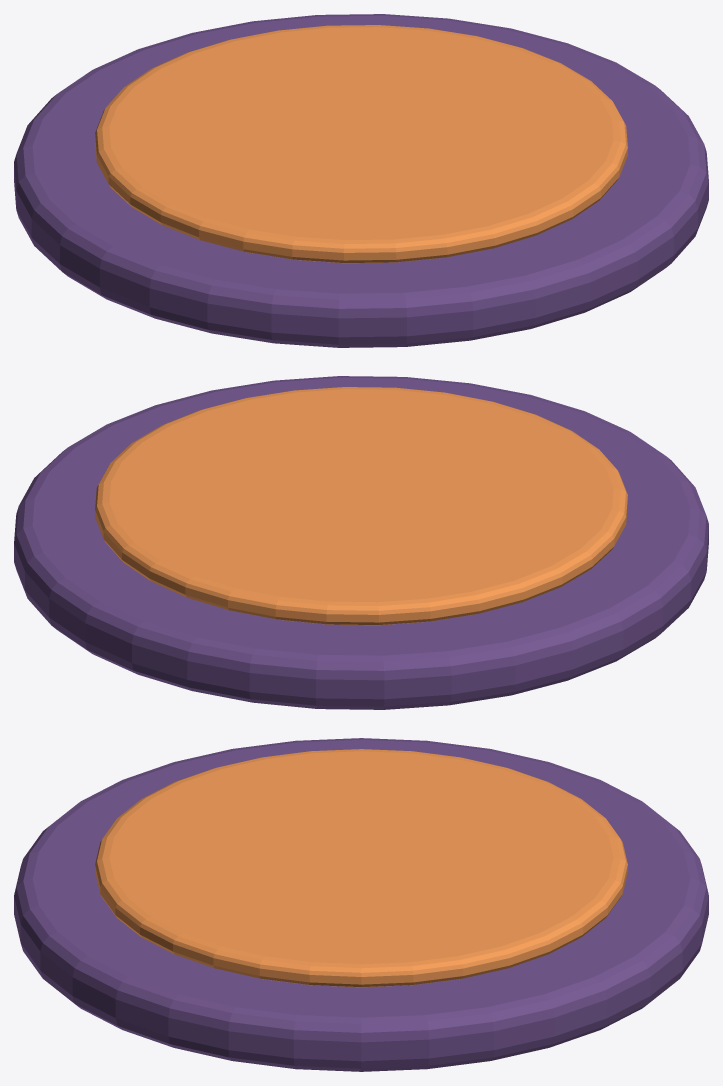
Rendered from SM_RoundPad_01.fbx.
3 views of the same model, one above another, from view 1: azimuth 30°, elevation 25°; view 2: azimuth 150°, elevation 25°; view 3: azimuth 270°, elevation 25° (orthographic).
Parts seen in each view (by area): view 1: SM_RoundPad_Centre, SM_RoundPad_Base; view 2: SM_RoundPad_Centre, SM_RoundPad_Base; view 3: SM_RoundPad_Centre, SM_RoundPad_Base.
Boxes of the visible parts, left/top/right/bottom form: SM_RoundPad_Centre: left=95, top=25, right=627, bottom=263; SM_RoundPad_Base: left=14, top=14, right=708, bottom=347; SM_RoundPad_Centre: left=95, top=387, right=627, bottom=625; SM_RoundPad_Base: left=14, top=376, right=708, bottom=709; SM_RoundPad_Centre: left=95, top=749, right=627, bottom=987; SM_RoundPad_Base: left=14, top=738, right=708, bottom=1071.
Bounding box in the file's own units: 300 × 35 × 300.
